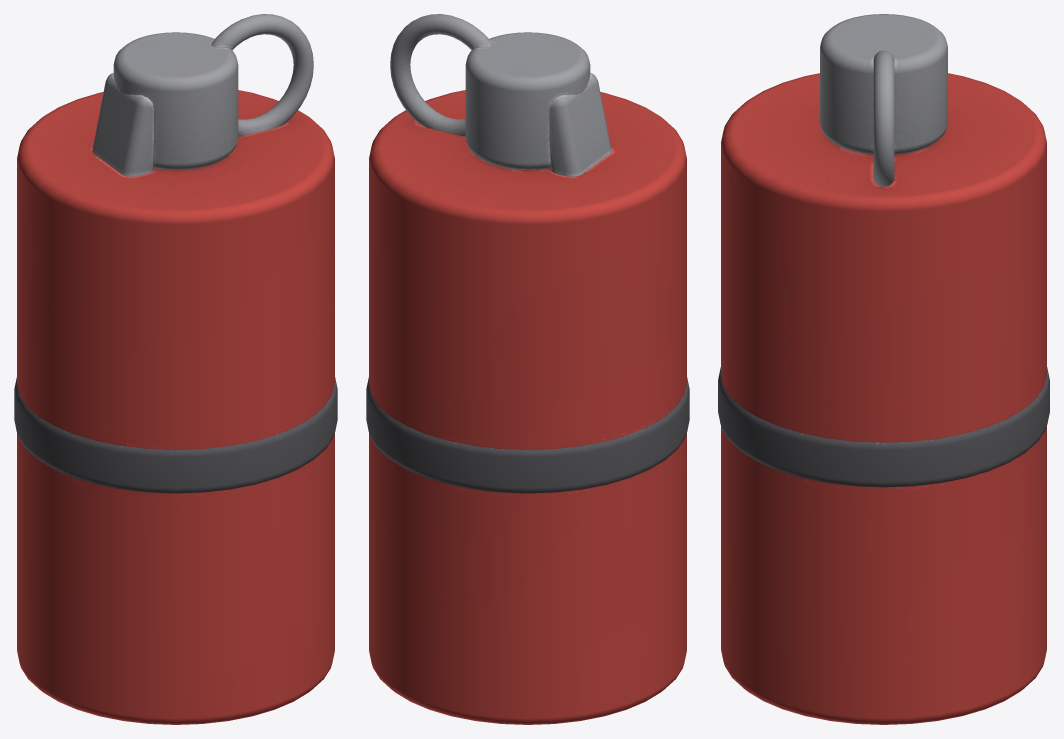
File: incendiary.fbx
3 renders of one model, left to right at view 1: azimuth 30°, elevation 25°; view 2: azimuth 150°, elevation 25°; view 3: azimuth 270°, elevation 25°, orthographic. The views are drawn at different scales.
Parts seen in each view (by area): view 1: incendiary; view 2: incendiary; view 3: incendiary.
Part boxes in pixels (left/top/right/bottom): incendiary: left=14, top=14, right=337, bottom=724; incendiary: left=366, top=14, right=689, bottom=724; incendiary: left=718, top=14, right=1049, bottom=724.
Size of the model in its own units: 0.057 by 0.1218 by 0.057.
